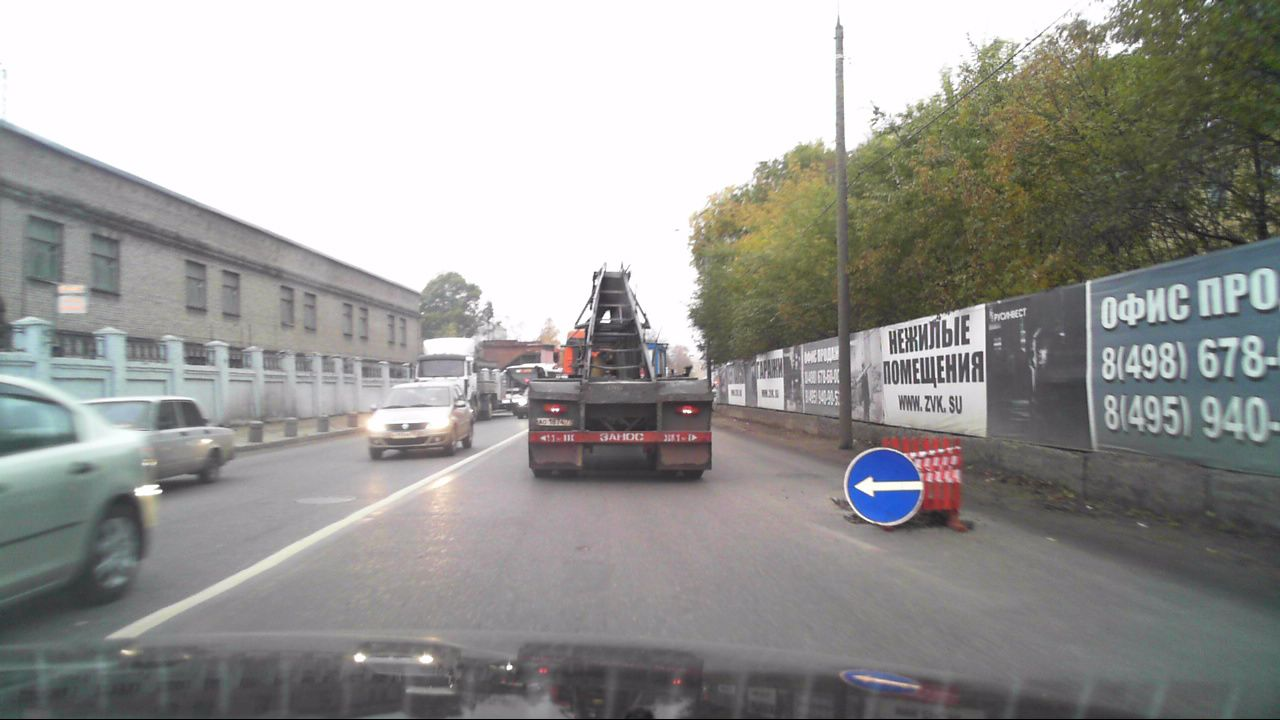Turn Left: (844, 448, 923, 526)
